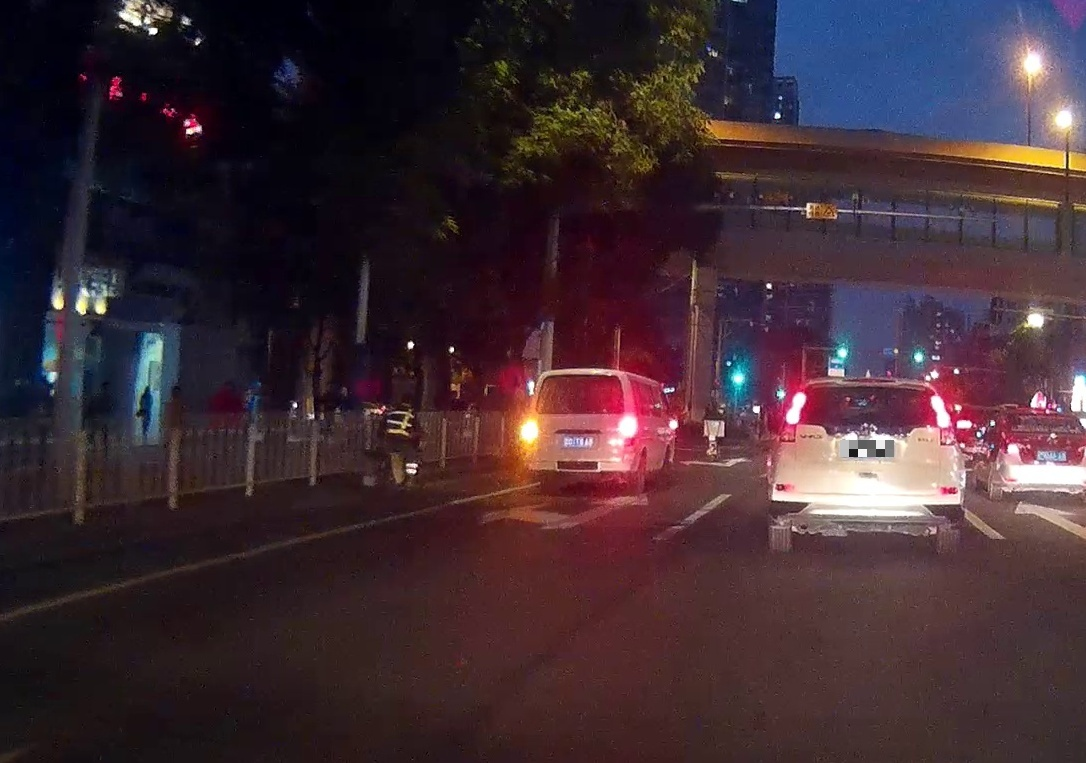L_light: (778, 391, 806, 443), (520, 418, 538, 448)
R_light: (930, 395, 957, 445), (617, 415, 637, 446)
T_light: (842, 379, 896, 384), (571, 374, 591, 379)
night-left: (520, 369, 638, 495)
night-no: (767, 377, 965, 556)
plate_1: (840, 440, 894, 457)
